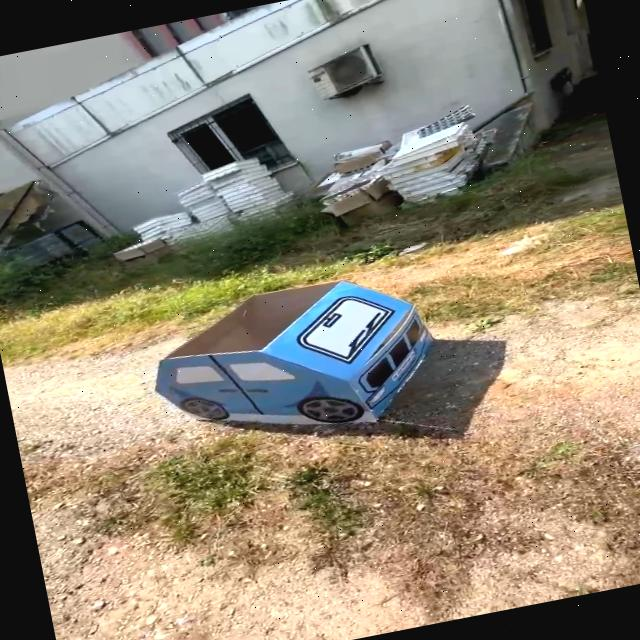blue_car: (109, 250, 501, 486)
